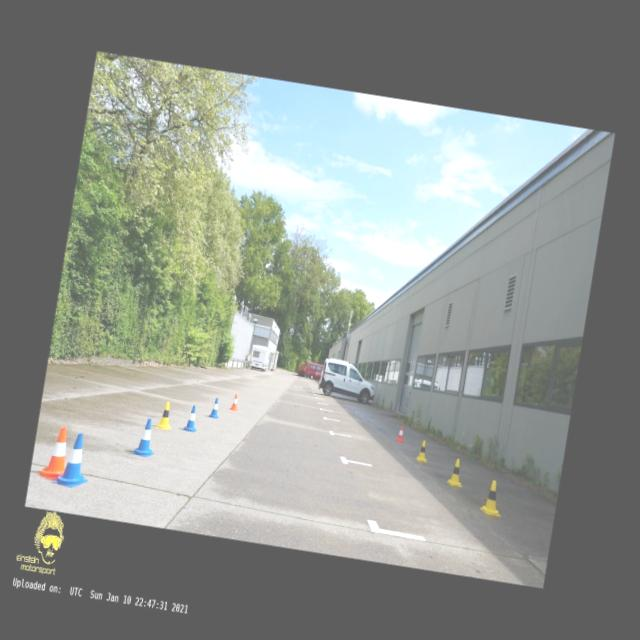blue_cone: (56, 431, 94, 491), (130, 416, 158, 458), (182, 404, 200, 433), (208, 397, 222, 419)
orange_cone: (36, 423, 72, 482), (229, 392, 240, 412), (395, 424, 406, 444)
yellow_cone: (478, 478, 506, 517), (446, 458, 466, 488), (156, 400, 174, 431), (416, 438, 430, 462)
